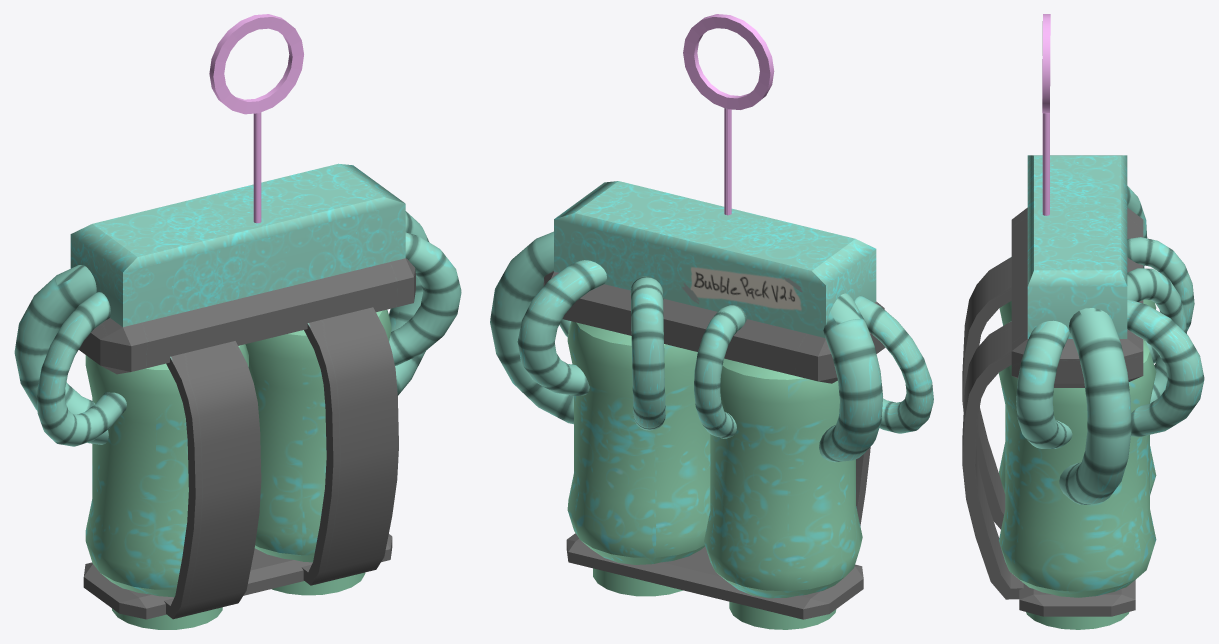
Rendered from jetpack.obj.
3 renders of one model, left to right at view 1: azimuth 30°, elevation 25°; view 2: azimuth 150°, elevation 25°; view 3: azimuth 270°, elevation 25°, orthographic. The views are drawn at different scales.
Visible parts, largest first — view 1: Bubblebottle4; view 2: Bubblebottle4; view 3: Bubblebottle4.
Boxes of the visible parts, bbox=[...] form: Bubblebottle4: bbox=[14, 14, 461, 629]; Bubblebottle4: bbox=[490, 14, 933, 629]; Bubblebottle4: bbox=[962, 14, 1204, 629].
Size of the model in its own units: 6.48 by 8.53 by 3.35.
Materials: 1 (1 with a texture image).
